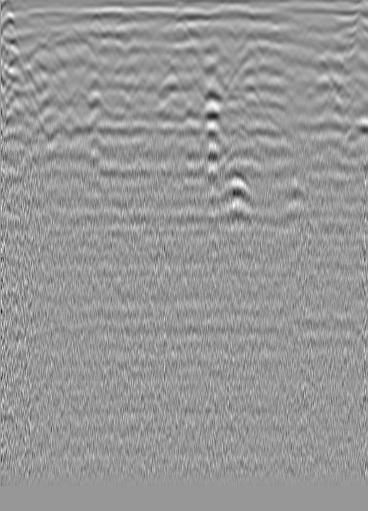가스: (214, 169, 255, 203)
상수: (313, 48, 333, 68)
오수: (24, 38, 54, 64)
우수: (183, 24, 203, 44)
